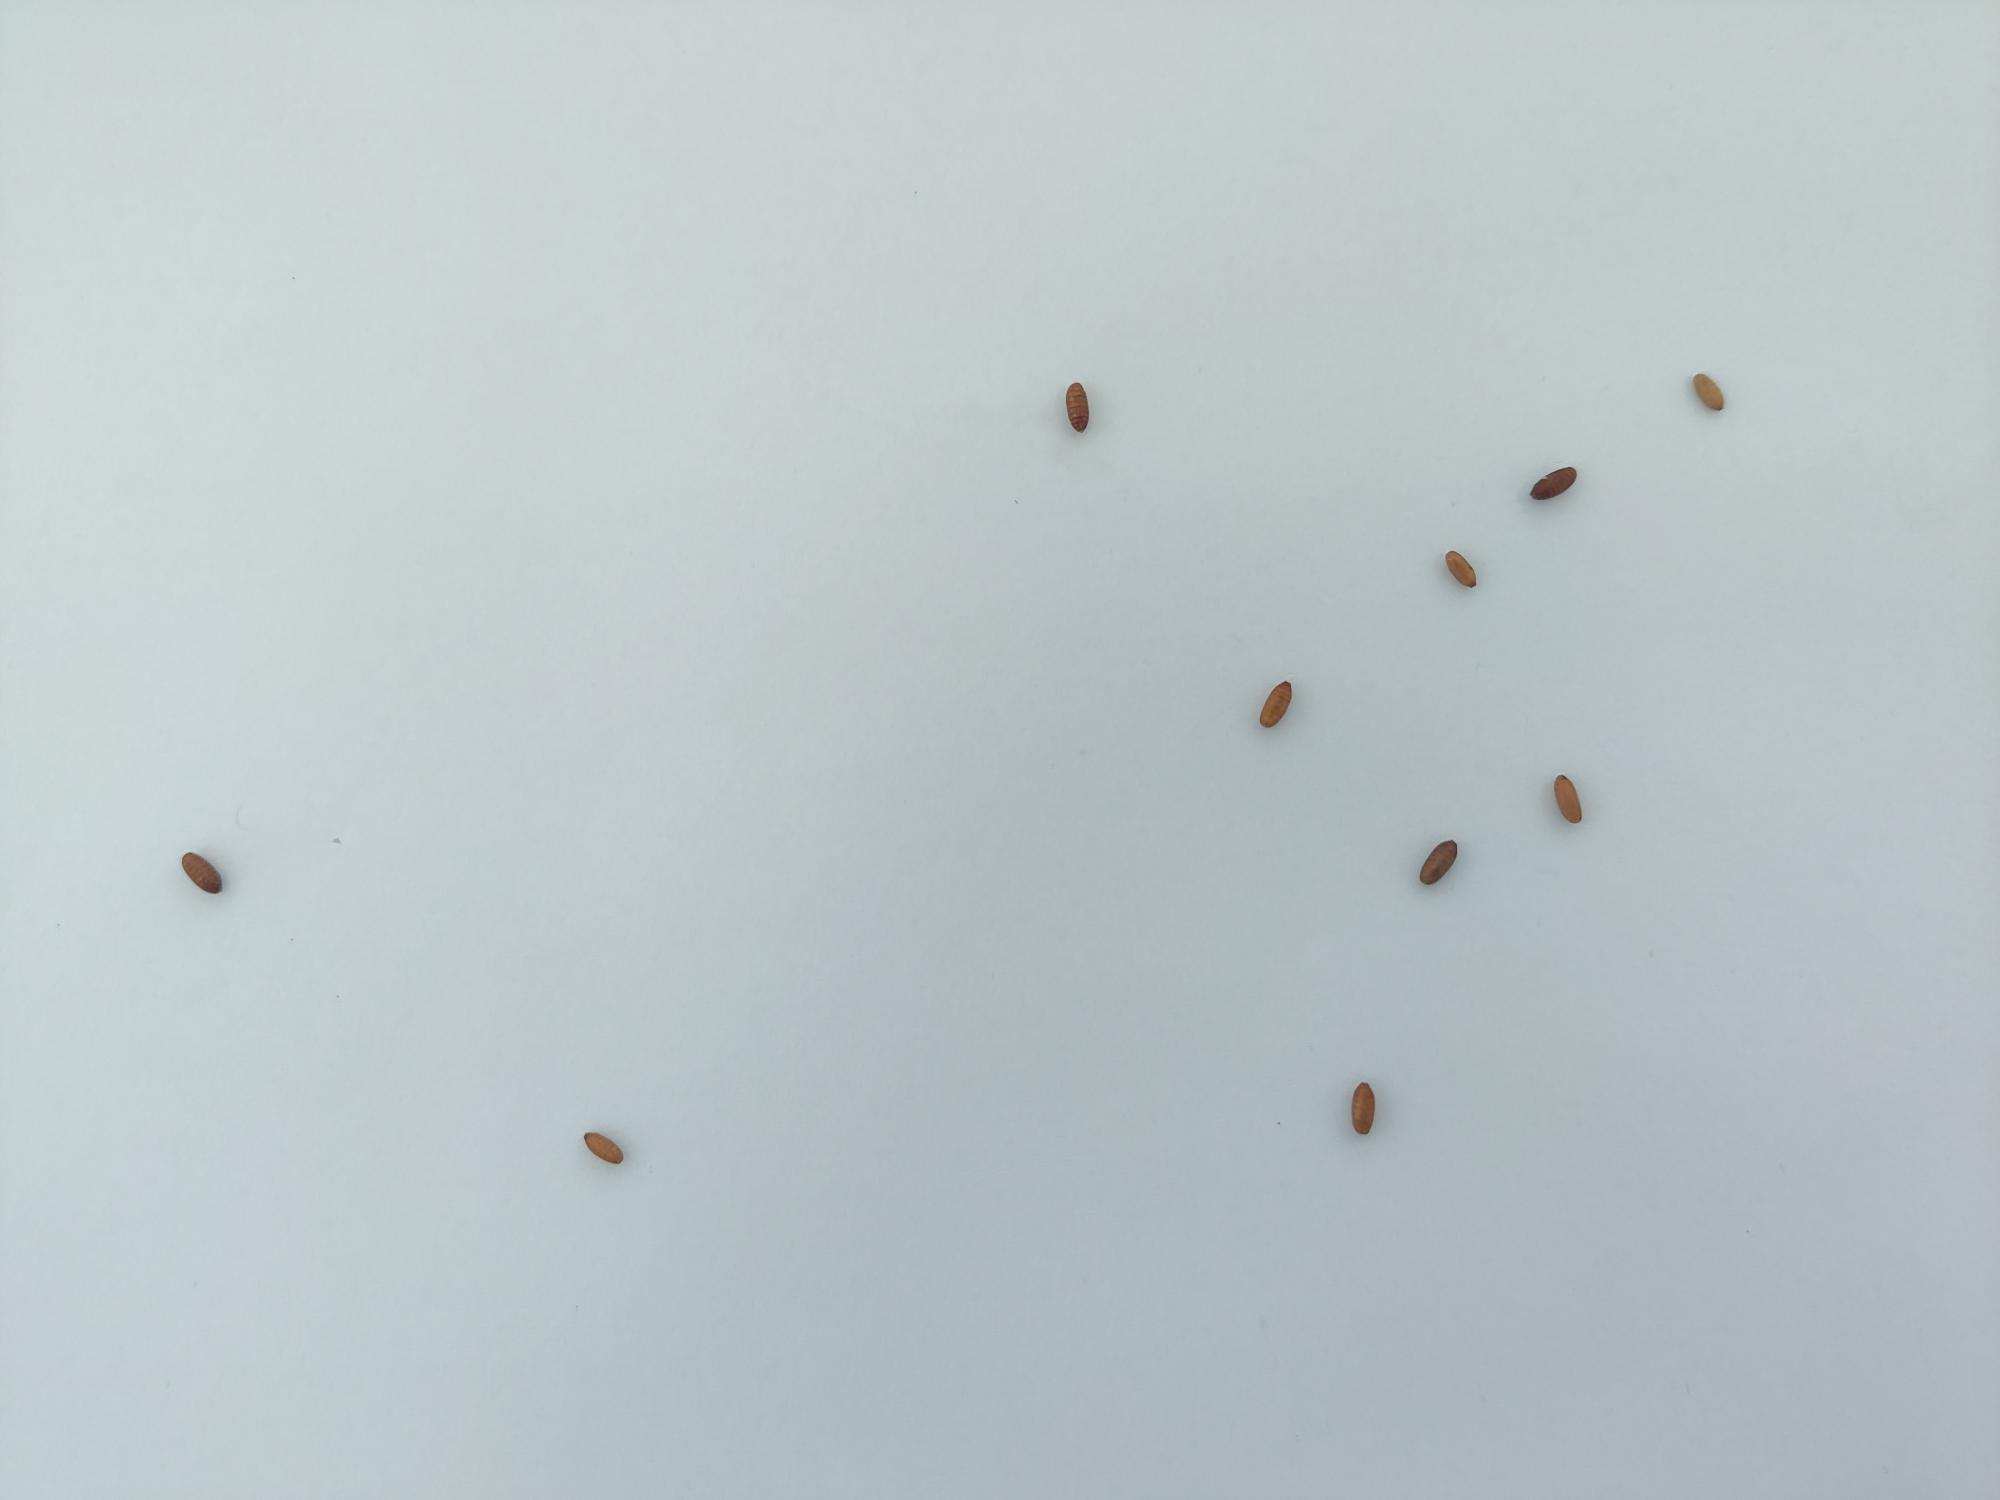pupae: (1405, 834, 1463, 895), (173, 841, 231, 903), (1543, 764, 1591, 834), (1252, 676, 1302, 737), (1526, 459, 1584, 511), (1339, 1076, 1383, 1142), (1683, 362, 1731, 424), (1057, 377, 1098, 444), (576, 1125, 631, 1174), (1439, 547, 1487, 599)
